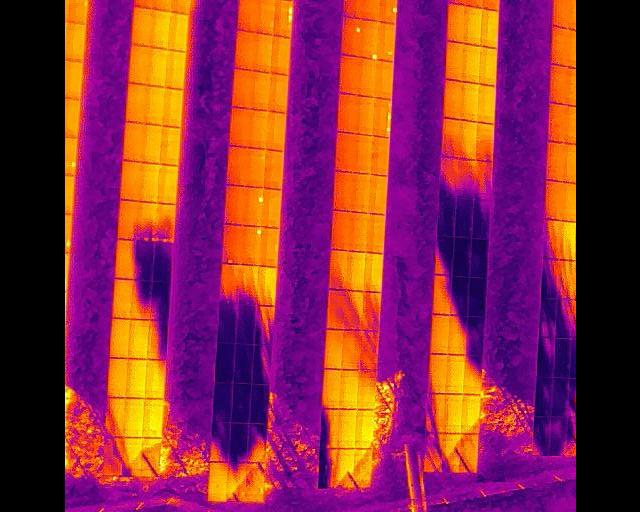Cell: (341, 16, 361, 57), (243, 187, 263, 226), (241, 227, 261, 266), (361, 19, 379, 60), (378, 22, 396, 62), (380, 0, 397, 23)
Cell-Multi: (374, 98, 390, 138)
No-Anomaly: (337, 93, 359, 134), (545, 182, 568, 221), (334, 134, 357, 173), (332, 173, 355, 212), (340, 54, 361, 96), (546, 142, 568, 182), (547, 104, 570, 142), (144, 361, 166, 400), (141, 400, 163, 439), (125, 85, 147, 124), (127, 319, 148, 359), (123, 398, 144, 438), (109, 319, 130, 359), (113, 239, 133, 280), (550, 27, 571, 66), (549, 66, 570, 105), (228, 108, 249, 147), (132, 8, 153, 47), (128, 46, 149, 85), (125, 359, 146, 398), (426, 354, 446, 394), (338, 370, 358, 410), (321, 370, 341, 410), (256, 266, 276, 306), (111, 279, 131, 319), (229, 70, 250, 108), (156, 165, 177, 203), (461, 395, 481, 434), (330, 211, 350, 250), (226, 147, 246, 186), (223, 186, 243, 225), (220, 225, 240, 264), (159, 127, 179, 166), (138, 164, 158, 203), (118, 162, 138, 201), (442, 79, 461, 120), (150, 11, 171, 48), (265, 112, 285, 150), (262, 150, 282, 188), (166, 13, 186, 51), (161, 89, 181, 127), (123, 123, 143, 161), (107, 358, 126, 398), (477, 46, 496, 86), (428, 315, 447, 354), (354, 410, 373, 449), (263, 189, 282, 228), (164, 51, 183, 90), (268, 74, 287, 112), (207, 464, 226, 502), (459, 82, 477, 122), (337, 410, 355, 450), (270, 37, 289, 74), (445, 42, 463, 81), (370, 137, 388, 176), (366, 215, 384, 254), (364, 253, 382, 292), (323, 330, 341, 369), (250, 72, 268, 111), (234, 32, 252, 71), (64, 59, 82, 98), (149, 48, 167, 87), (446, 3, 463, 44), (248, 110, 266, 148), (145, 87, 163, 125), (463, 5, 480, 45), (444, 394, 461, 434), (477, 84, 494, 124), (346, 252, 363, 292), (252, 35, 270, 72), (445, 355, 462, 394), (353, 174, 370, 213), (261, 228, 278, 267), (246, 148, 263, 187), (117, 201, 134, 240), (255, 0, 274, 34), (476, 123, 493, 161), (463, 44, 479, 84), (236, 0, 256, 32), (481, 9, 497, 49), (65, 23, 83, 58), (360, 61, 377, 98), (377, 60, 393, 99), (370, 175, 386, 214), (355, 136, 371, 175), (350, 213, 366, 252), (142, 126, 158, 164), (460, 120, 475, 160), (359, 96, 374, 136), (552, 0, 572, 27), (67, 0, 87, 22), (343, 0, 364, 20), (363, 0, 380, 21), (172, 0, 189, 15), (134, 0, 156, 10), (156, 0, 172, 13), (482, 0, 498, 10), (466, 0, 483, 8)
Shadowing: (217, 264, 240, 305), (236, 265, 258, 306), (422, 433, 444, 473), (327, 251, 349, 291), (252, 305, 274, 345), (440, 118, 461, 159), (146, 320, 167, 361), (543, 221, 564, 261), (244, 463, 265, 503), (232, 344, 253, 384), (252, 345, 272, 385), (218, 304, 238, 344), (135, 202, 155, 242), (121, 438, 141, 478), (326, 291, 346, 330), (541, 261, 561, 300), (248, 384, 268, 423), (211, 384, 231, 423), (154, 203, 174, 242), (152, 243, 172, 282), (140, 439, 160, 478), (132, 241, 152, 280), (131, 282, 151, 321), (352, 450, 371, 491), (215, 343, 234, 384), (210, 422, 229, 463), (356, 370, 375, 410), (341, 331, 360, 371), (318, 410, 337, 450), (538, 299, 557, 339), (247, 423, 266, 463), (236, 304, 255, 344), (150, 282, 170, 320), (334, 449, 352, 491), (230, 384, 249, 423), (436, 196, 454, 237), (318, 449, 336, 490), (534, 377, 552, 418), (229, 423, 247, 464), (359, 331, 378, 369), (535, 339, 554, 377), (103, 438, 122, 476), (556, 299, 574, 339), (462, 355, 480, 395), (431, 275, 449, 315), (531, 416, 549, 456), (464, 316, 482, 355), (456, 159, 474, 198), (449, 276, 467, 315), (447, 316, 465, 355), (554, 339, 572, 378), (361, 292, 379, 331), (226, 463, 244, 502), (106, 398, 124, 437), (469, 238, 487, 277), (468, 277, 486, 316), (439, 158, 456, 199), (550, 418, 568, 456), (344, 292, 362, 330), (461, 434, 478, 474), (451, 237, 468, 277), (444, 434, 461, 474), (434, 235, 451, 275), (552, 378, 569, 418), (454, 198, 471, 237), (427, 394, 444, 433), (471, 199, 488, 238), (474, 161, 491, 199)
Unclassified: (272, 0, 292, 37)
